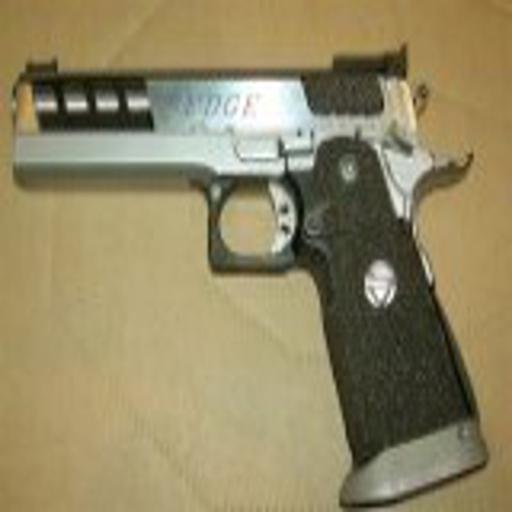Handgun: (5, 41, 491, 502)
